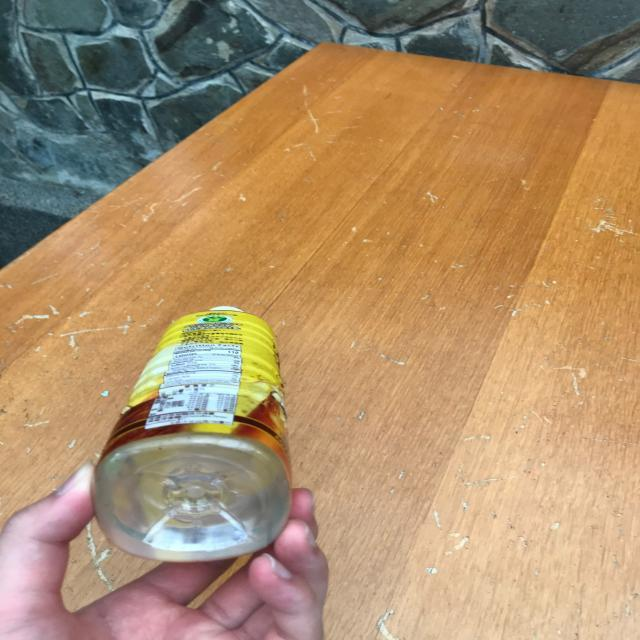bottle: (91, 306, 291, 562)
